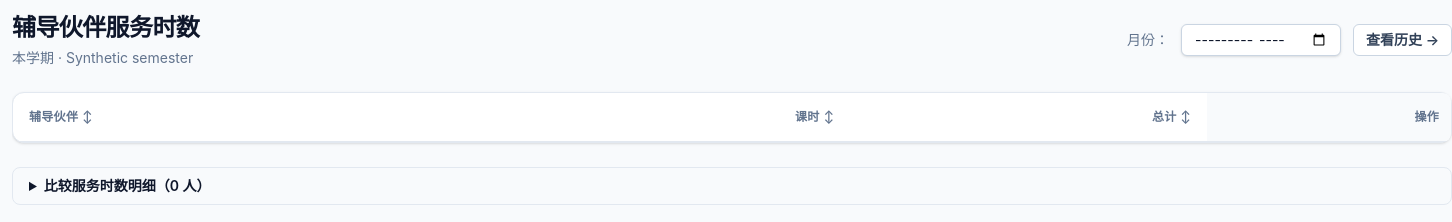
keeps the zh month filter native, labelled and reversible beside its history link
Type "2026-10" into the field labelled "月份：" at (1261, 40), box [1181,24,1341,56]
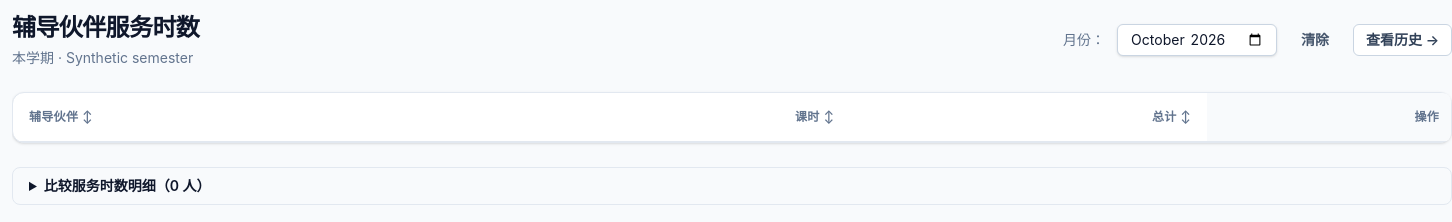
Click the button "清除" at (1315, 40), box [1289,24,1341,56]
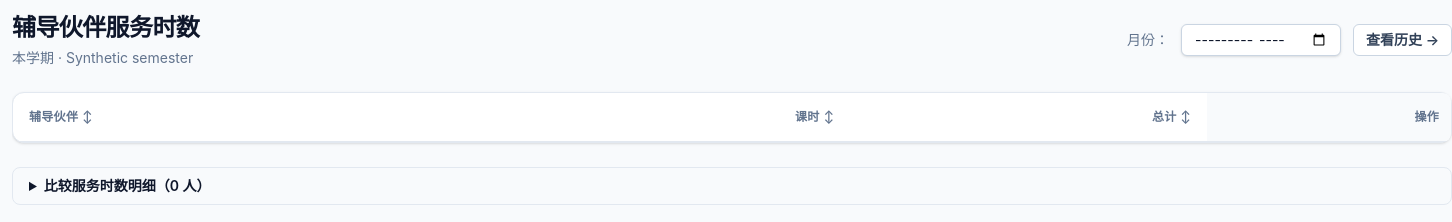
Result: the field labelled "月份：" is empty at [1181,24,1341,56]
